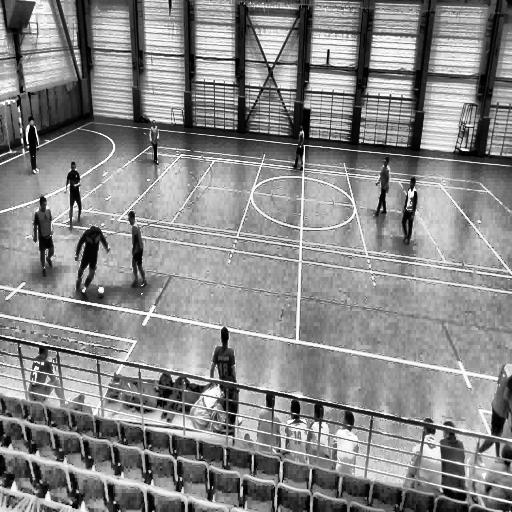ball: (98, 285, 106, 299)
player: (75, 225, 110, 296), (209, 326, 237, 408), (34, 196, 56, 275), (128, 209, 147, 288), (400, 176, 418, 246), (372, 156, 390, 218), (66, 159, 82, 226), (25, 116, 40, 174), (292, 122, 306, 172), (150, 120, 160, 164)
